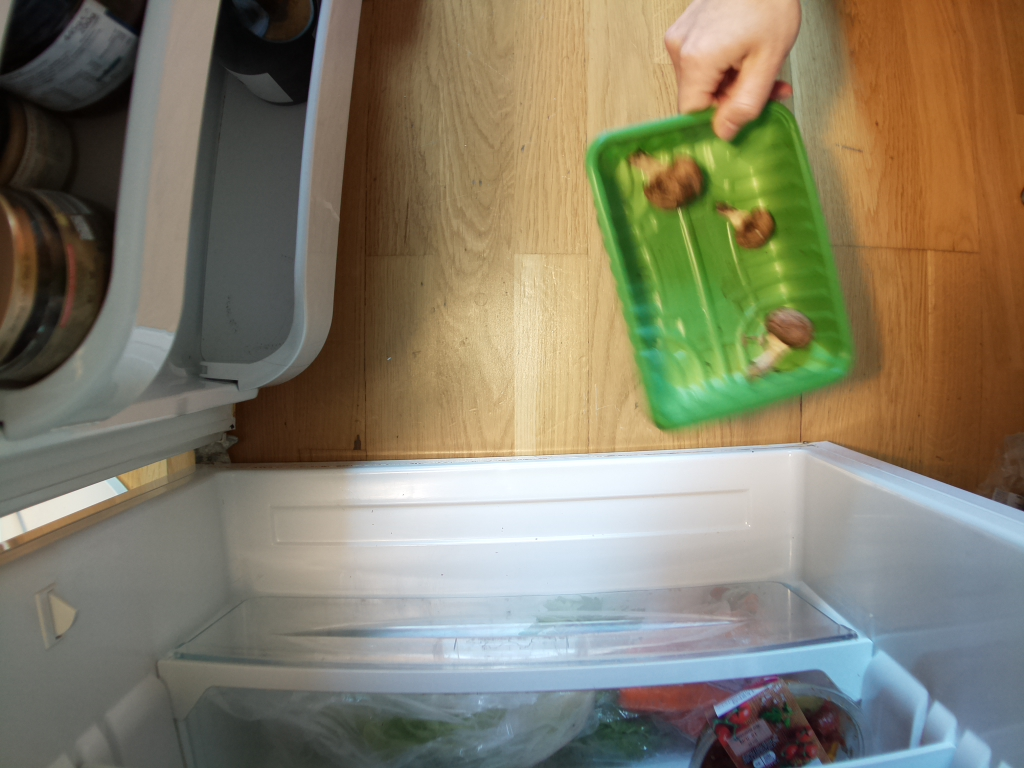mushrooms-bad: (587, 102, 857, 423)
